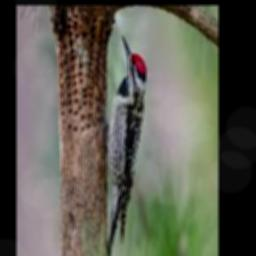Woodpecker: (105, 33, 145, 256)
